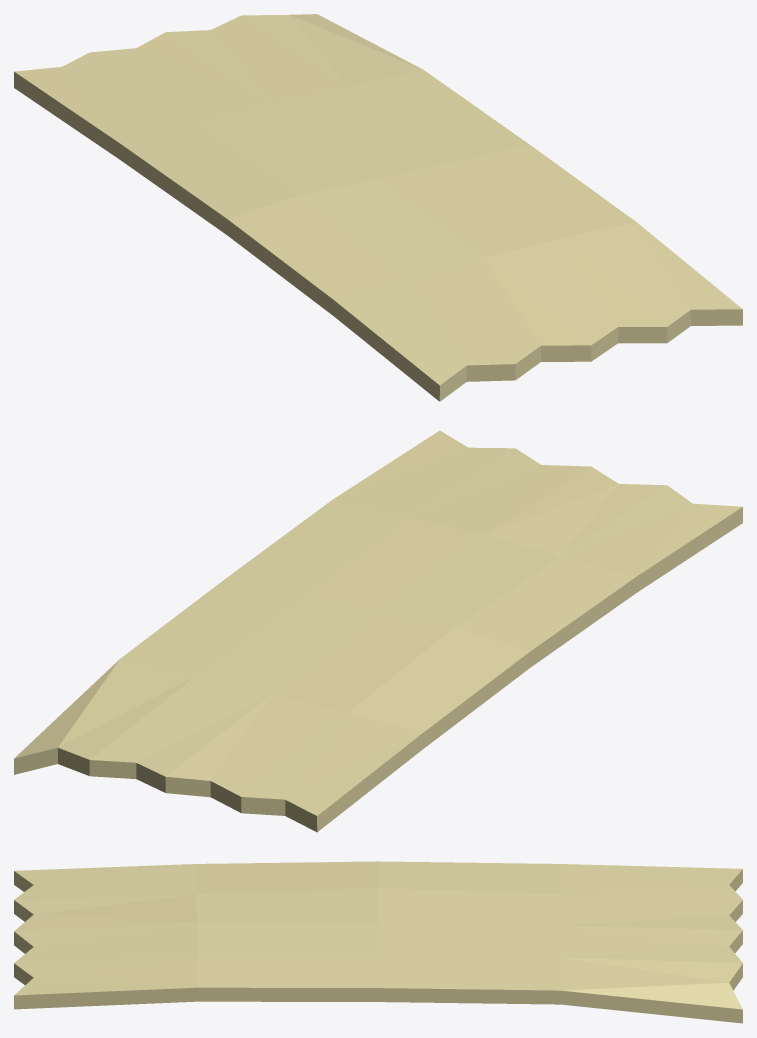
Rendered from Ticket.fbx.
3 views of the same model, one above another, from view 1: azimuth 30°, elevation 25°; view 2: azimuth 150°, elevation 25°; view 3: azimuth 270°, elevation 25° (orthographic). The views are drawn at different scales.
Parts seen in each view (by area): view 1: Ticket; view 2: Ticket; view 3: Ticket.
Part boxes in pixels (left/top/right/bottom): Ticket: left=14, top=14, right=742, bottom=401; Ticket: left=14, top=430, right=742, bottom=832; Ticket: left=14, top=861, right=742, bottom=1023.
Bounding box in the file's own units: 10.71 × 1.6 × 26.05.
